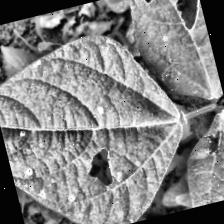Bean Rust: (0, 18, 206, 224), (121, 0, 223, 114), (174, 107, 224, 206)
